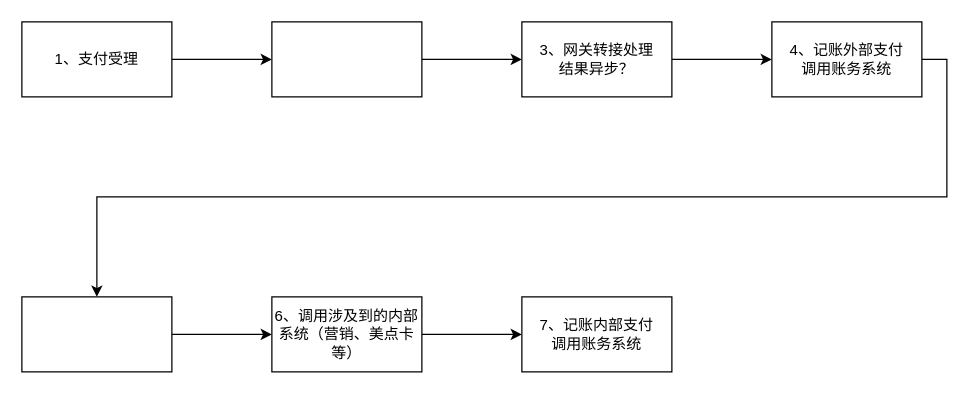
The diagram is 979 pixels wide and 394 high, and some of its shapes have lost their labels. Here are the shapes that lost their labels. From the top down, the centre of each, then its label:
At point (346, 59): "2、外部支付工具".
At point (96, 334): "5、内部支付工具".
